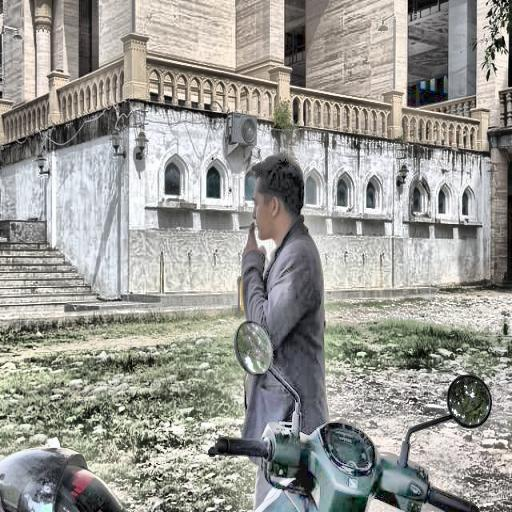Rokok: (245, 177, 296, 257)
